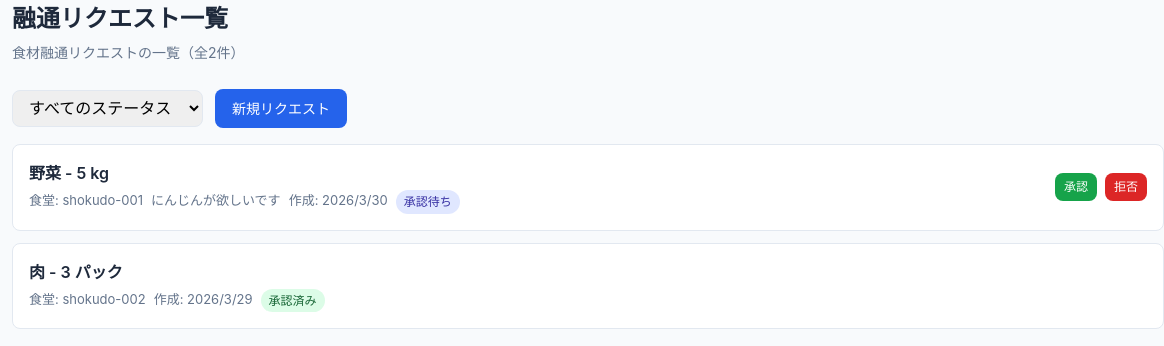
it: FusionRequestList › 承認ボタンを押すと一致する食品アイテムの選択UIが表示される（window.promptは使わない）
Click the button "承認".
click(1076, 187)  # box [1055,173,1097,201]
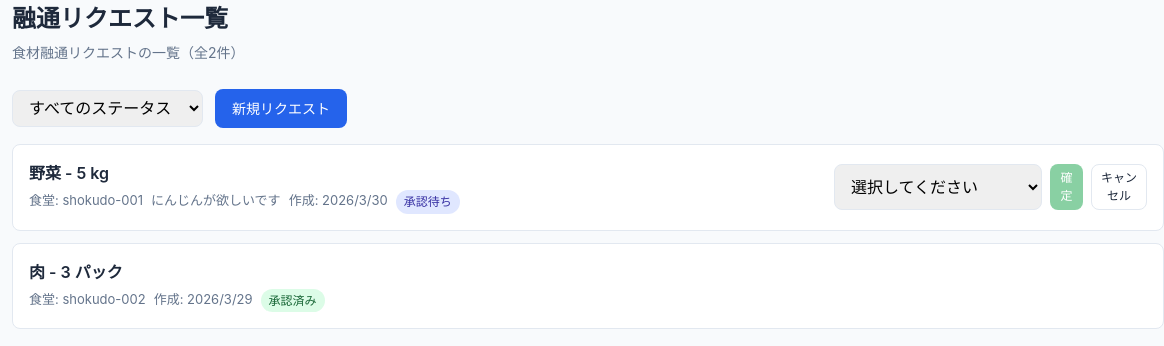
expect the dropdown named "提供する食品アイテム" is shown: met, box [834,164,1042,210]
